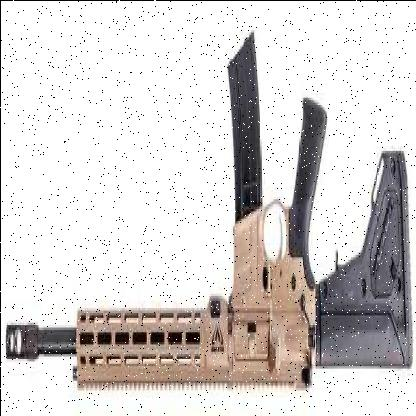rifle: (9, 2, 416, 401)
